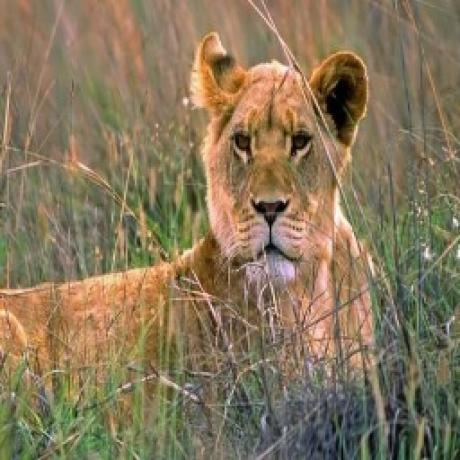Lion: (0, 31, 381, 366)
